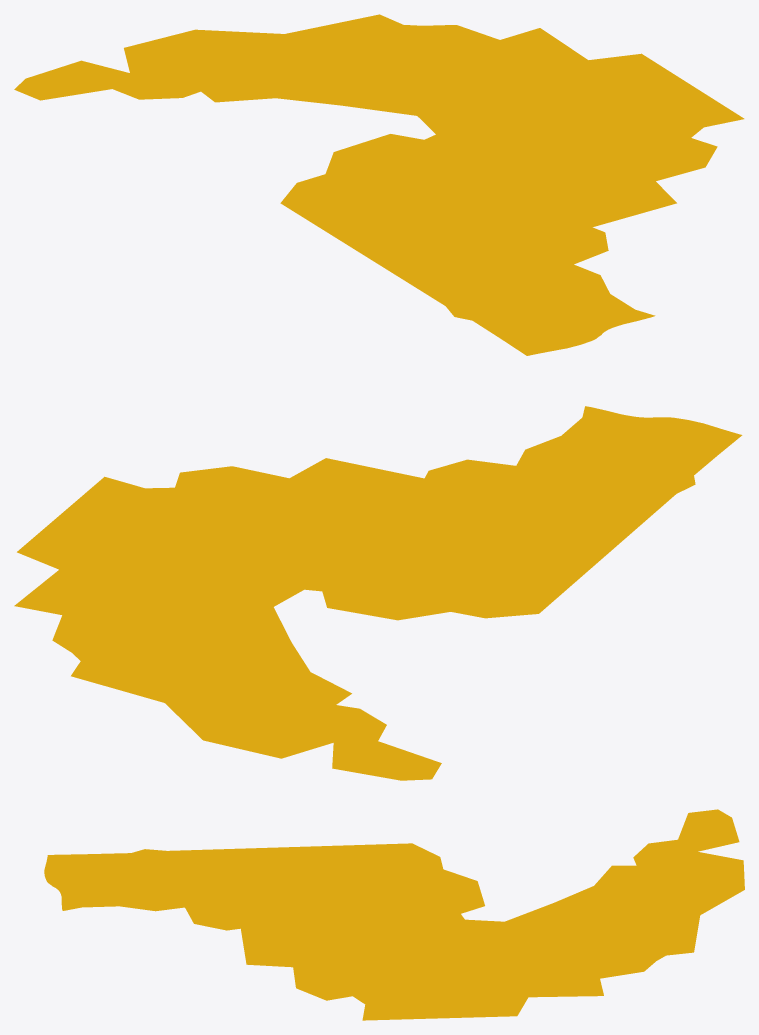
Rendered from world08_road_00_alpha.obj.
3 renders of one model, top to bottom at view 1: azimuth 30°, elevation 25°; view 2: azimuth 150°, elevation 25°; view 3: azimuth 270°, elevation 25°, orthographic. The views are drawn at different scales.
Parts seen in each view (by area): view 1: world08_road_00_alpha; view 2: world08_road_00_alpha; view 3: world08_road_00_alpha.
Part boxes in pixels (left/top/right/bottom): world08_road_00_alpha: left=14, top=14, right=744, bottom=355; world08_road_00_alpha: left=14, top=406, right=742, bottom=780; world08_road_00_alpha: left=44, top=809, right=744, bottom=1020.
Bounding box in the file's own units: 50.18 × 0 × 73.41.
